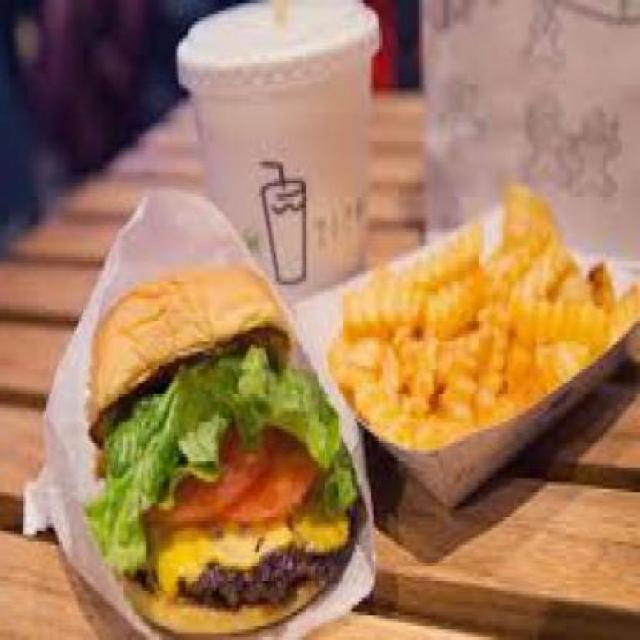french fries: (336, 176, 638, 461)
hamburger: (90, 260, 341, 634)
